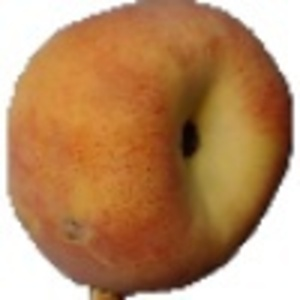pêssego: (2, 1, 296, 300)
